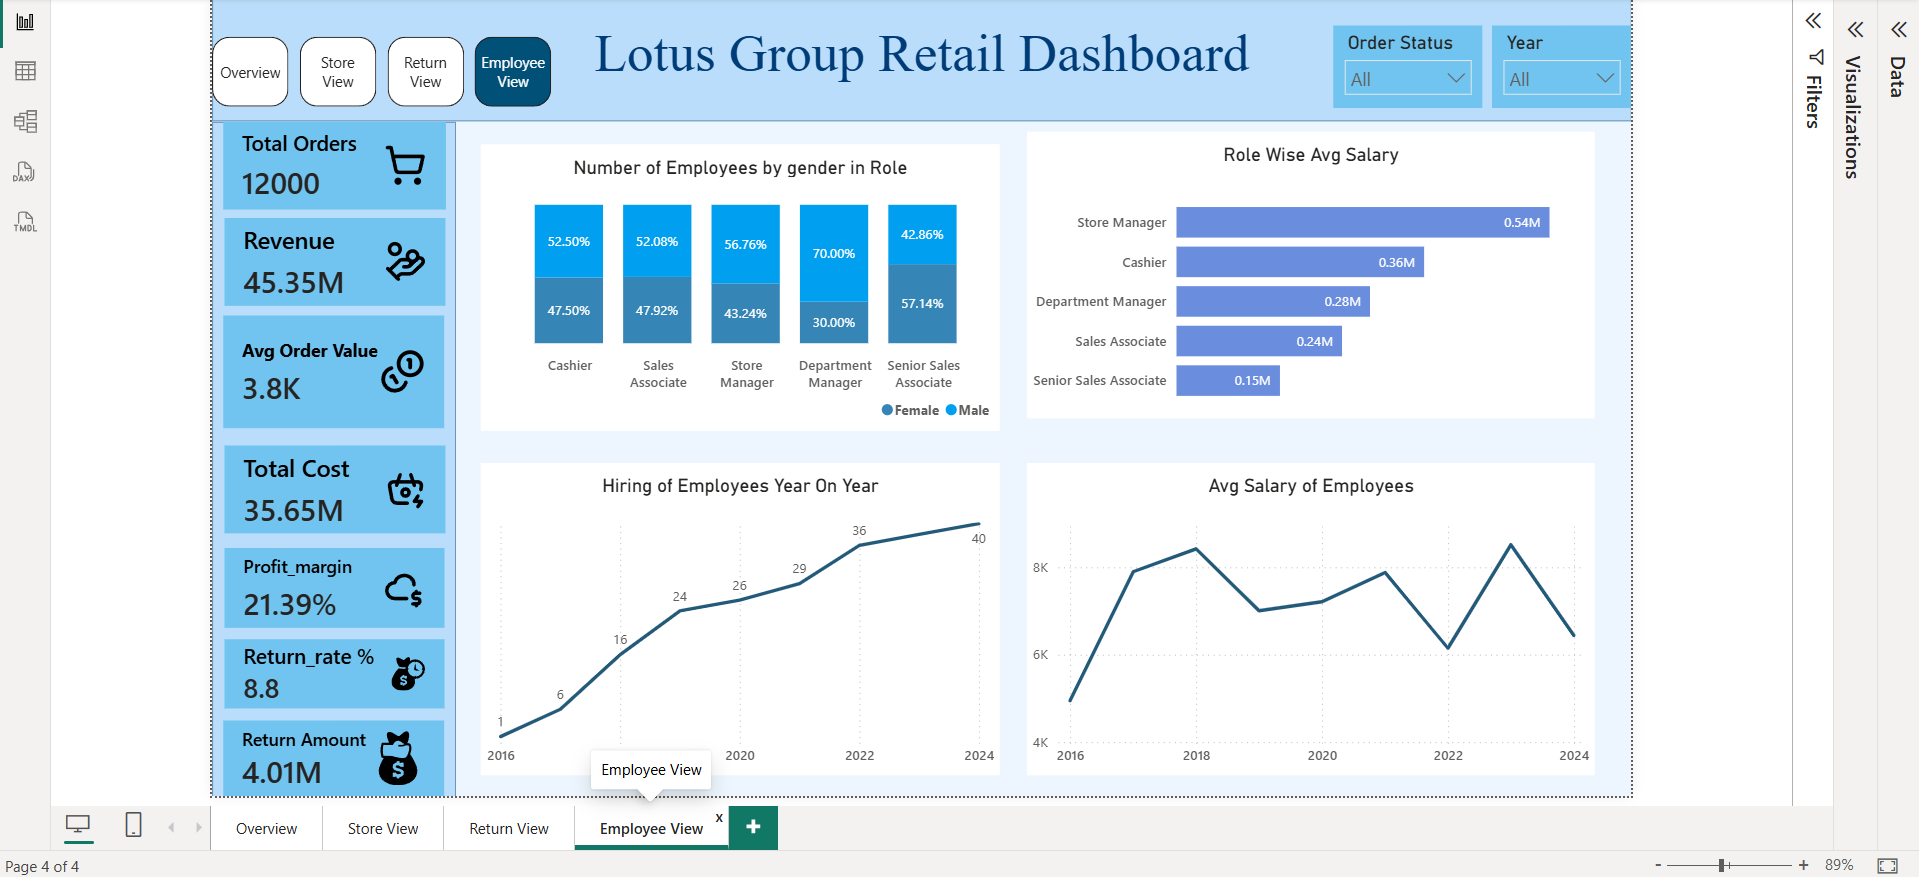

This screenshot's page, from the dashboard's own definition file:
{"tool":"powerbi","page":{"name":"Employee View","canvas":[1280,720],"ordinal":3},"visuals":[{"type":"shape","box":[0,111.6,220.1,609],"z":0},{"type":"shape","box":[0,0,1280.3,111.3],"z":1000},{"type":"textbox","box":[0,0,1280.3,111.3],"z":2000},{"type":"cardVisual","fields":{"Data":["fact_returns.Return_rate"]},"box":[267.8,528.3,199.3,89.3],"z":3000},{"type":"pageNavigator","box":[0,35.5,306.9,63.6],"z":4000},{"type":"hundredPercentStackedColumnChart","title":"Number of Employees by gender in Role","fields":{"Category":["dim_employees.role"],"Y":["CountNonNull(dim_employees.employee_id)"],"Series":["dim_employees.gender"]},"box":[242.1,132.1,468.3,258],"z":5000},{"type":"barChart","title":"Role Wise Avg Salary","fields":{"Category":["dim_employees.role"],"Y":["Sum(dim_employees.monthly_salary_egp)"]},"box":[734.9,121.1,512.4,258],"z":6000},{"type":"lineChart","title":"Hiring of Employees Year On Year","fields":{"Category":["dim_employees.hire_date.Variation.Date Hierarchy.Year","dim_employees.hire_date.Variation.Date Hierarchy.Month","dim_employees.hire_date.Variation.Date Hierarchy.Day"],"Y":["CountNonNull(dim_employees.employee_id)"]},"box":[242.1,419.4,468.3,281.3],"z":7000},{"type":"lineChart","title":"Avg Salary of Employees","fields":{"Category":["dim_employees.hire_date.Variation.Date Hierarchy.Year","dim_employees.hire_date.Variation.Date Hierarchy.Month","dim_employees.hire_date.Variation.Date Hierarchy.Day"],"Y":["Avg(dim_employees.monthly_salary_egp)"]},"box":[734.9,419.4,512.4,281.3],"z":8000},{"type":"slicer","fields":{"Values":["dim_date.year"]},"box":[1154,24.5,126,74.6],"z":9000},{"type":"slicer","fields":{"Values":["updated_fact_orders_2022_2023_and_2024.order_status"]},"box":[1011.3,24.5,134.5,74.6],"z":10000},{"type":"cardVisual","fields":{"Data":["CountNonNull(updated_fact_orders_2022_2023_and_2024.order_id)"]},"box":[10.1,111.6,200.6,78.9],"z":11000},{"type":"cardVisual","fields":{"Data":["fact_order_details.Average_order_value"]},"box":[9.8,286.1,199.3,101.5],"z":12000},{"type":"cardVisual","fields":{"Data":["updated_fact_orders_2022_2023_and_2024.Profit_margin"]},"box":[11.3,496,198.1,72.1],"z":13000},{"type":"cardVisual","fields":{"Data":["Sum(updated_fact_orders_2022_2023_and_2024.total_cost)"]},"box":[11,403.5,199.3,79.5],"z":14000},{"type":"cardVisual","fields":{"Data":["Sum(updated_fact_orders_2022_2023_and_2024.total_revenue)"]},"box":[11.3,198.4,199.5,78.9],"z":15000},{"type":"cardVisual","fields":{"Data":["Sum(fact_returns.return_amount)"]},"box":[9.8,651.5,199.3,68.5],"z":16000},{"type":"cardVisual","fields":{"Data":["fact_returns.Return_rate"]},"box":[11,578.4,198.1,62.4],"z":17000}]}

Visuals, with their boxes on the page's 1280x720 design canvas (x1, y1, x2, y2). These are canvas units, not pixel positions in the 1919x877 screenshot, which may show the page scaled, cropped or inside an application window:
shape: [left=0, top=112, right=220, bottom=721]
shape: [left=0, top=0, right=1280, bottom=111]
textbox: [left=0, top=0, right=1280, bottom=111]
cardVisual - fact_returns.Return_rate: [left=268, top=528, right=467, bottom=618]
pageNavigator: [left=0, top=36, right=307, bottom=99]
"Number of Employees by gender in Role" hundredPercentStackedColumnChart: [left=242, top=132, right=710, bottom=390]
"Role Wise Avg Salary" barChart: [left=735, top=121, right=1247, bottom=379]
"Hiring of Employees Year On Year" lineChart: [left=242, top=419, right=710, bottom=701]
"Avg Salary of Employees" lineChart: [left=735, top=419, right=1247, bottom=701]
slicer - dim_date.year: [left=1154, top=24, right=1280, bottom=99]
slicer - updated_fact_orders_2022_2023_and_2024.order_status: [left=1011, top=24, right=1146, bottom=99]
cardVisual - CountNonNull(updated_fact_orders_2022_2023_and_2024.order_id): [left=10, top=112, right=211, bottom=190]
cardVisual - fact_order_details.Average_order_value: [left=10, top=286, right=209, bottom=388]
cardVisual - updated_fact_orders_2022_2023_and_2024.Profit_margin: [left=11, top=496, right=209, bottom=568]
cardVisual - Sum(updated_fact_orders_2022_2023_and_2024.total_cost): [left=11, top=404, right=210, bottom=483]
cardVisual - Sum(updated_fact_orders_2022_2023_and_2024.total_revenue): [left=11, top=198, right=211, bottom=277]
cardVisual - Sum(fact_returns.return_amount): [left=10, top=652, right=209, bottom=720]
cardVisual - fact_returns.Return_rate: [left=11, top=578, right=209, bottom=641]
